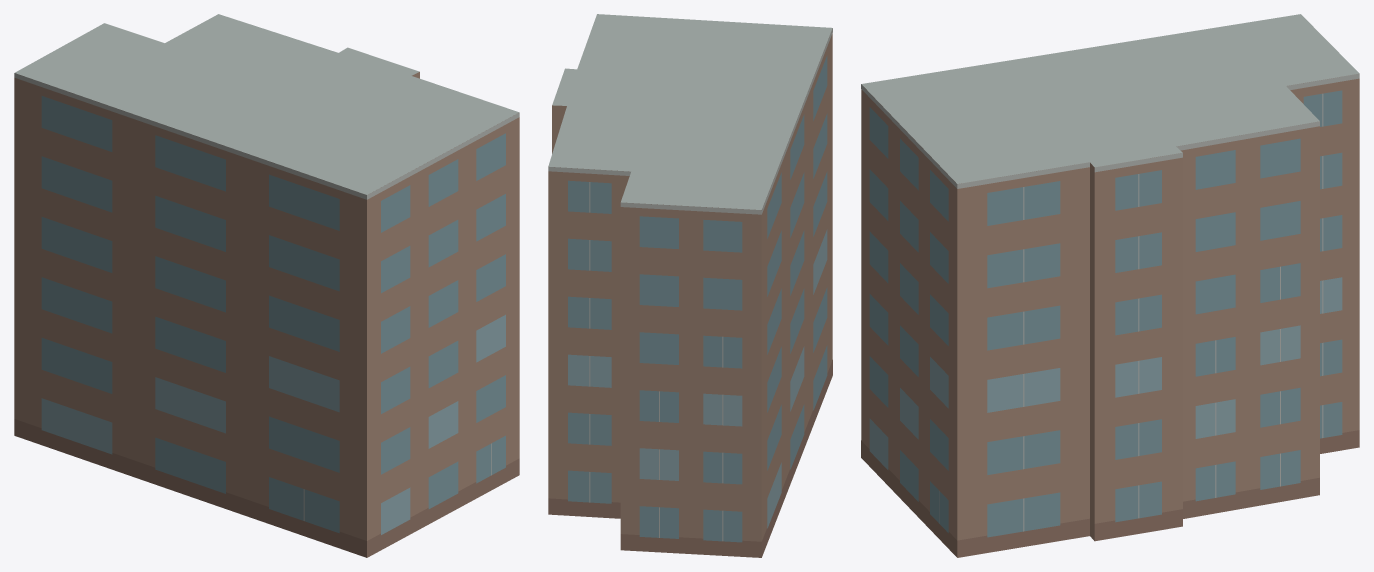
The model's file is survey-upis-32848825.glb.
3 renders of one model, left to right at view 1: azimuth 30°, elevation 25°; view 2: azimuth 150°, elevation 25°; view 3: azimuth 270°, elevation 25°, orthographic. The views are drawn at different scales.
Parts seen in each view (by area): view 1: survey-upis-32848825.tmp; view 2: survey-upis-32848825.tmp; view 3: survey-upis-32848825.tmp.
Part boxes in pixels (left/top/right/bottom): survey-upis-32848825.tmp: left=14, top=14, right=519, bottom=557; survey-upis-32848825.tmp: left=548, top=14, right=832, bottom=557; survey-upis-32848825.tmp: left=861, top=14, right=1359, bottom=557.
Bounding box in the file's own units: 18.17 × 18.6 × 22.49.
